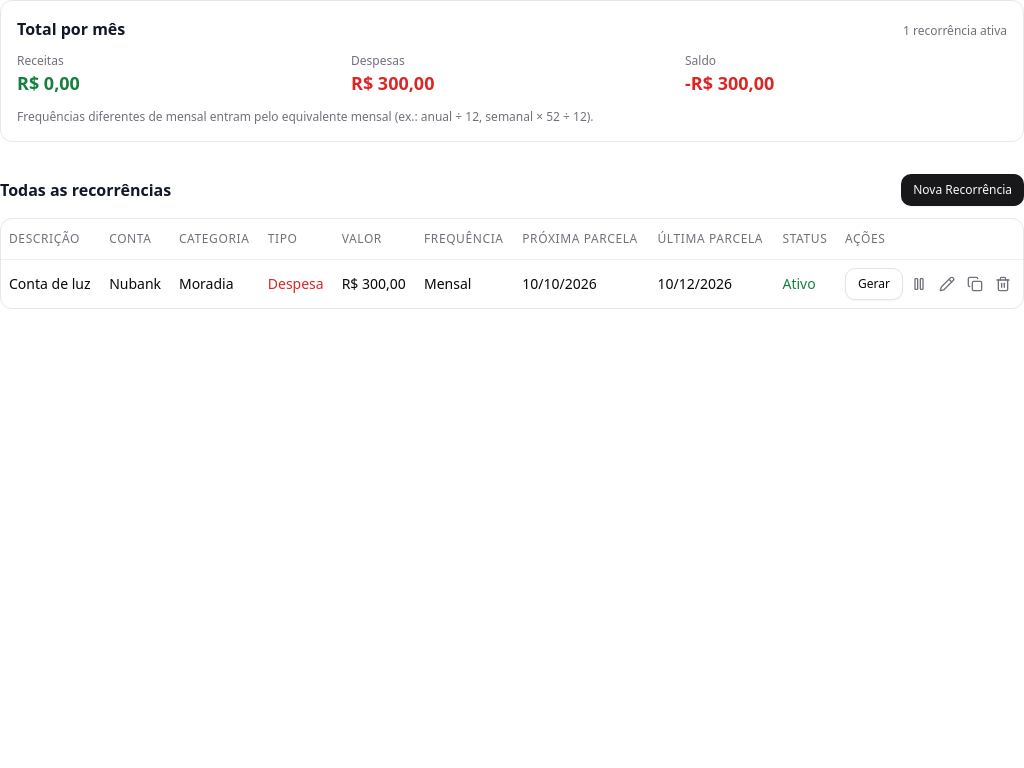
Test case: recorrente como meta de gasto — popup › some em receita
Click the button titled "Editar".
click(947, 284)  # box [935,272,959,296]
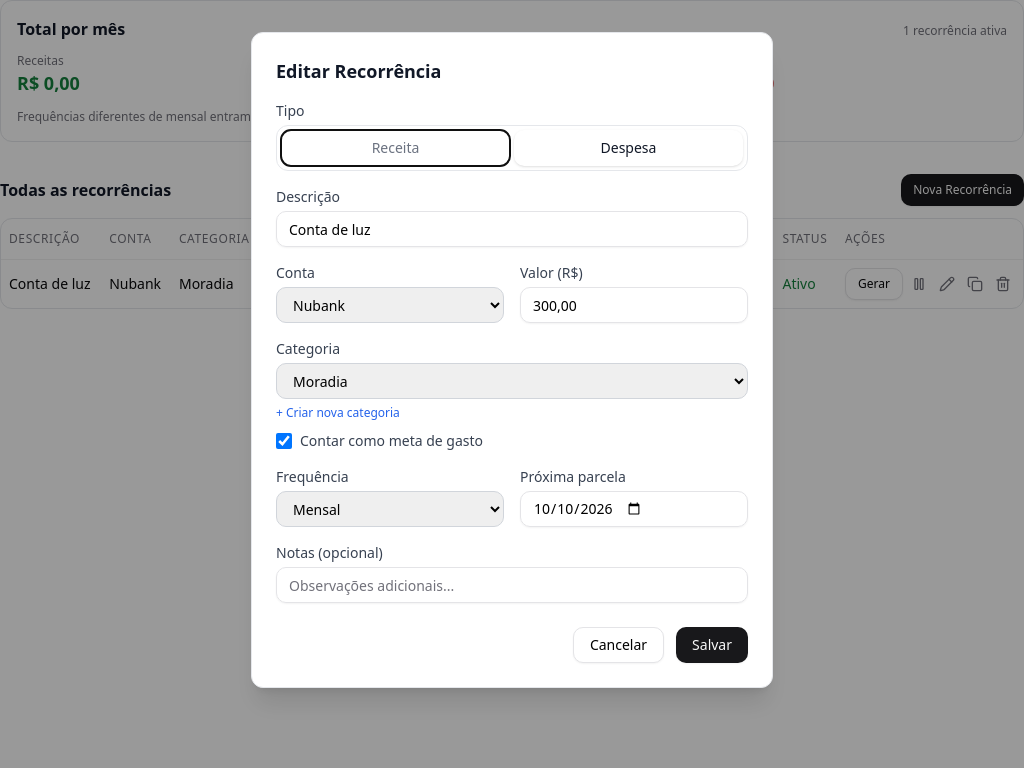
Check: the dialog is shown, box [251,32,773,688]
Click the button "Receita".
click(396, 148)  # box [281,130,510,166]
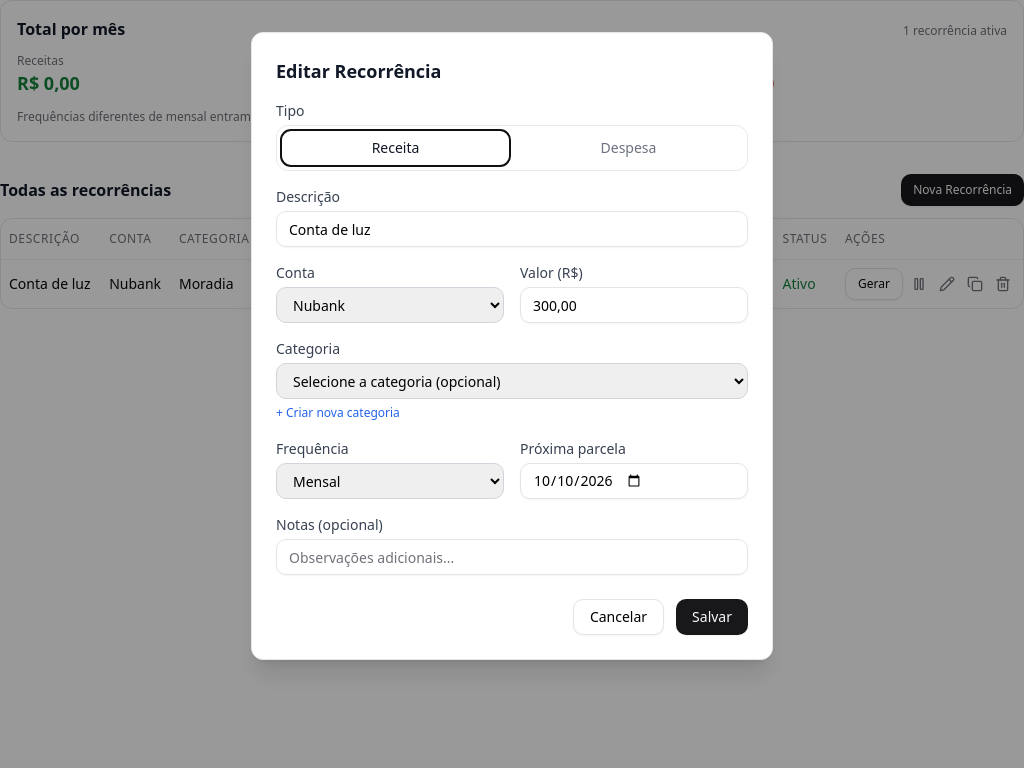
Check: the label labelled "Contar como meta de gasto" is gone
